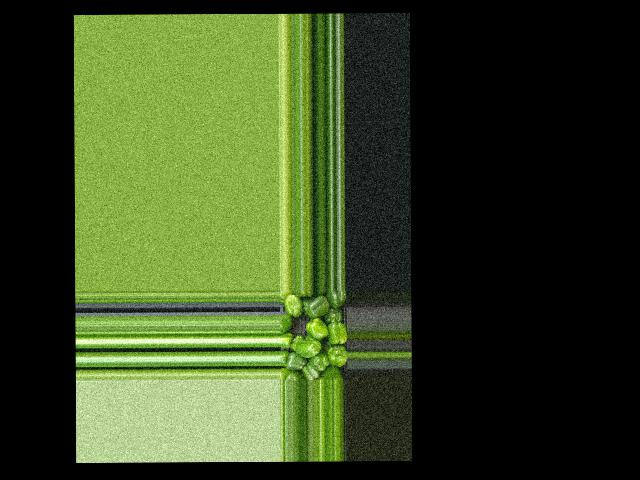bell_pepper: (319, 366, 338, 381)
